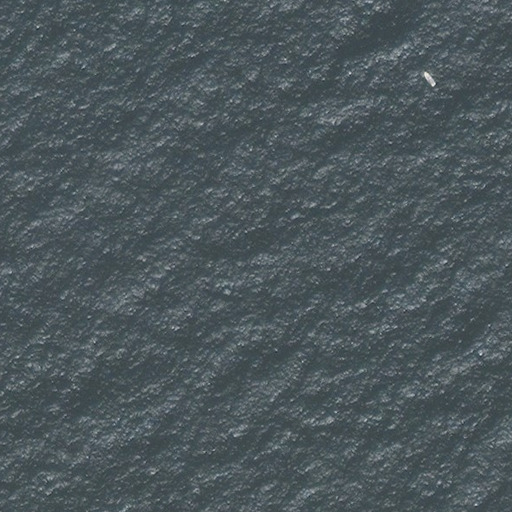ship: (420, 67, 437, 89)
